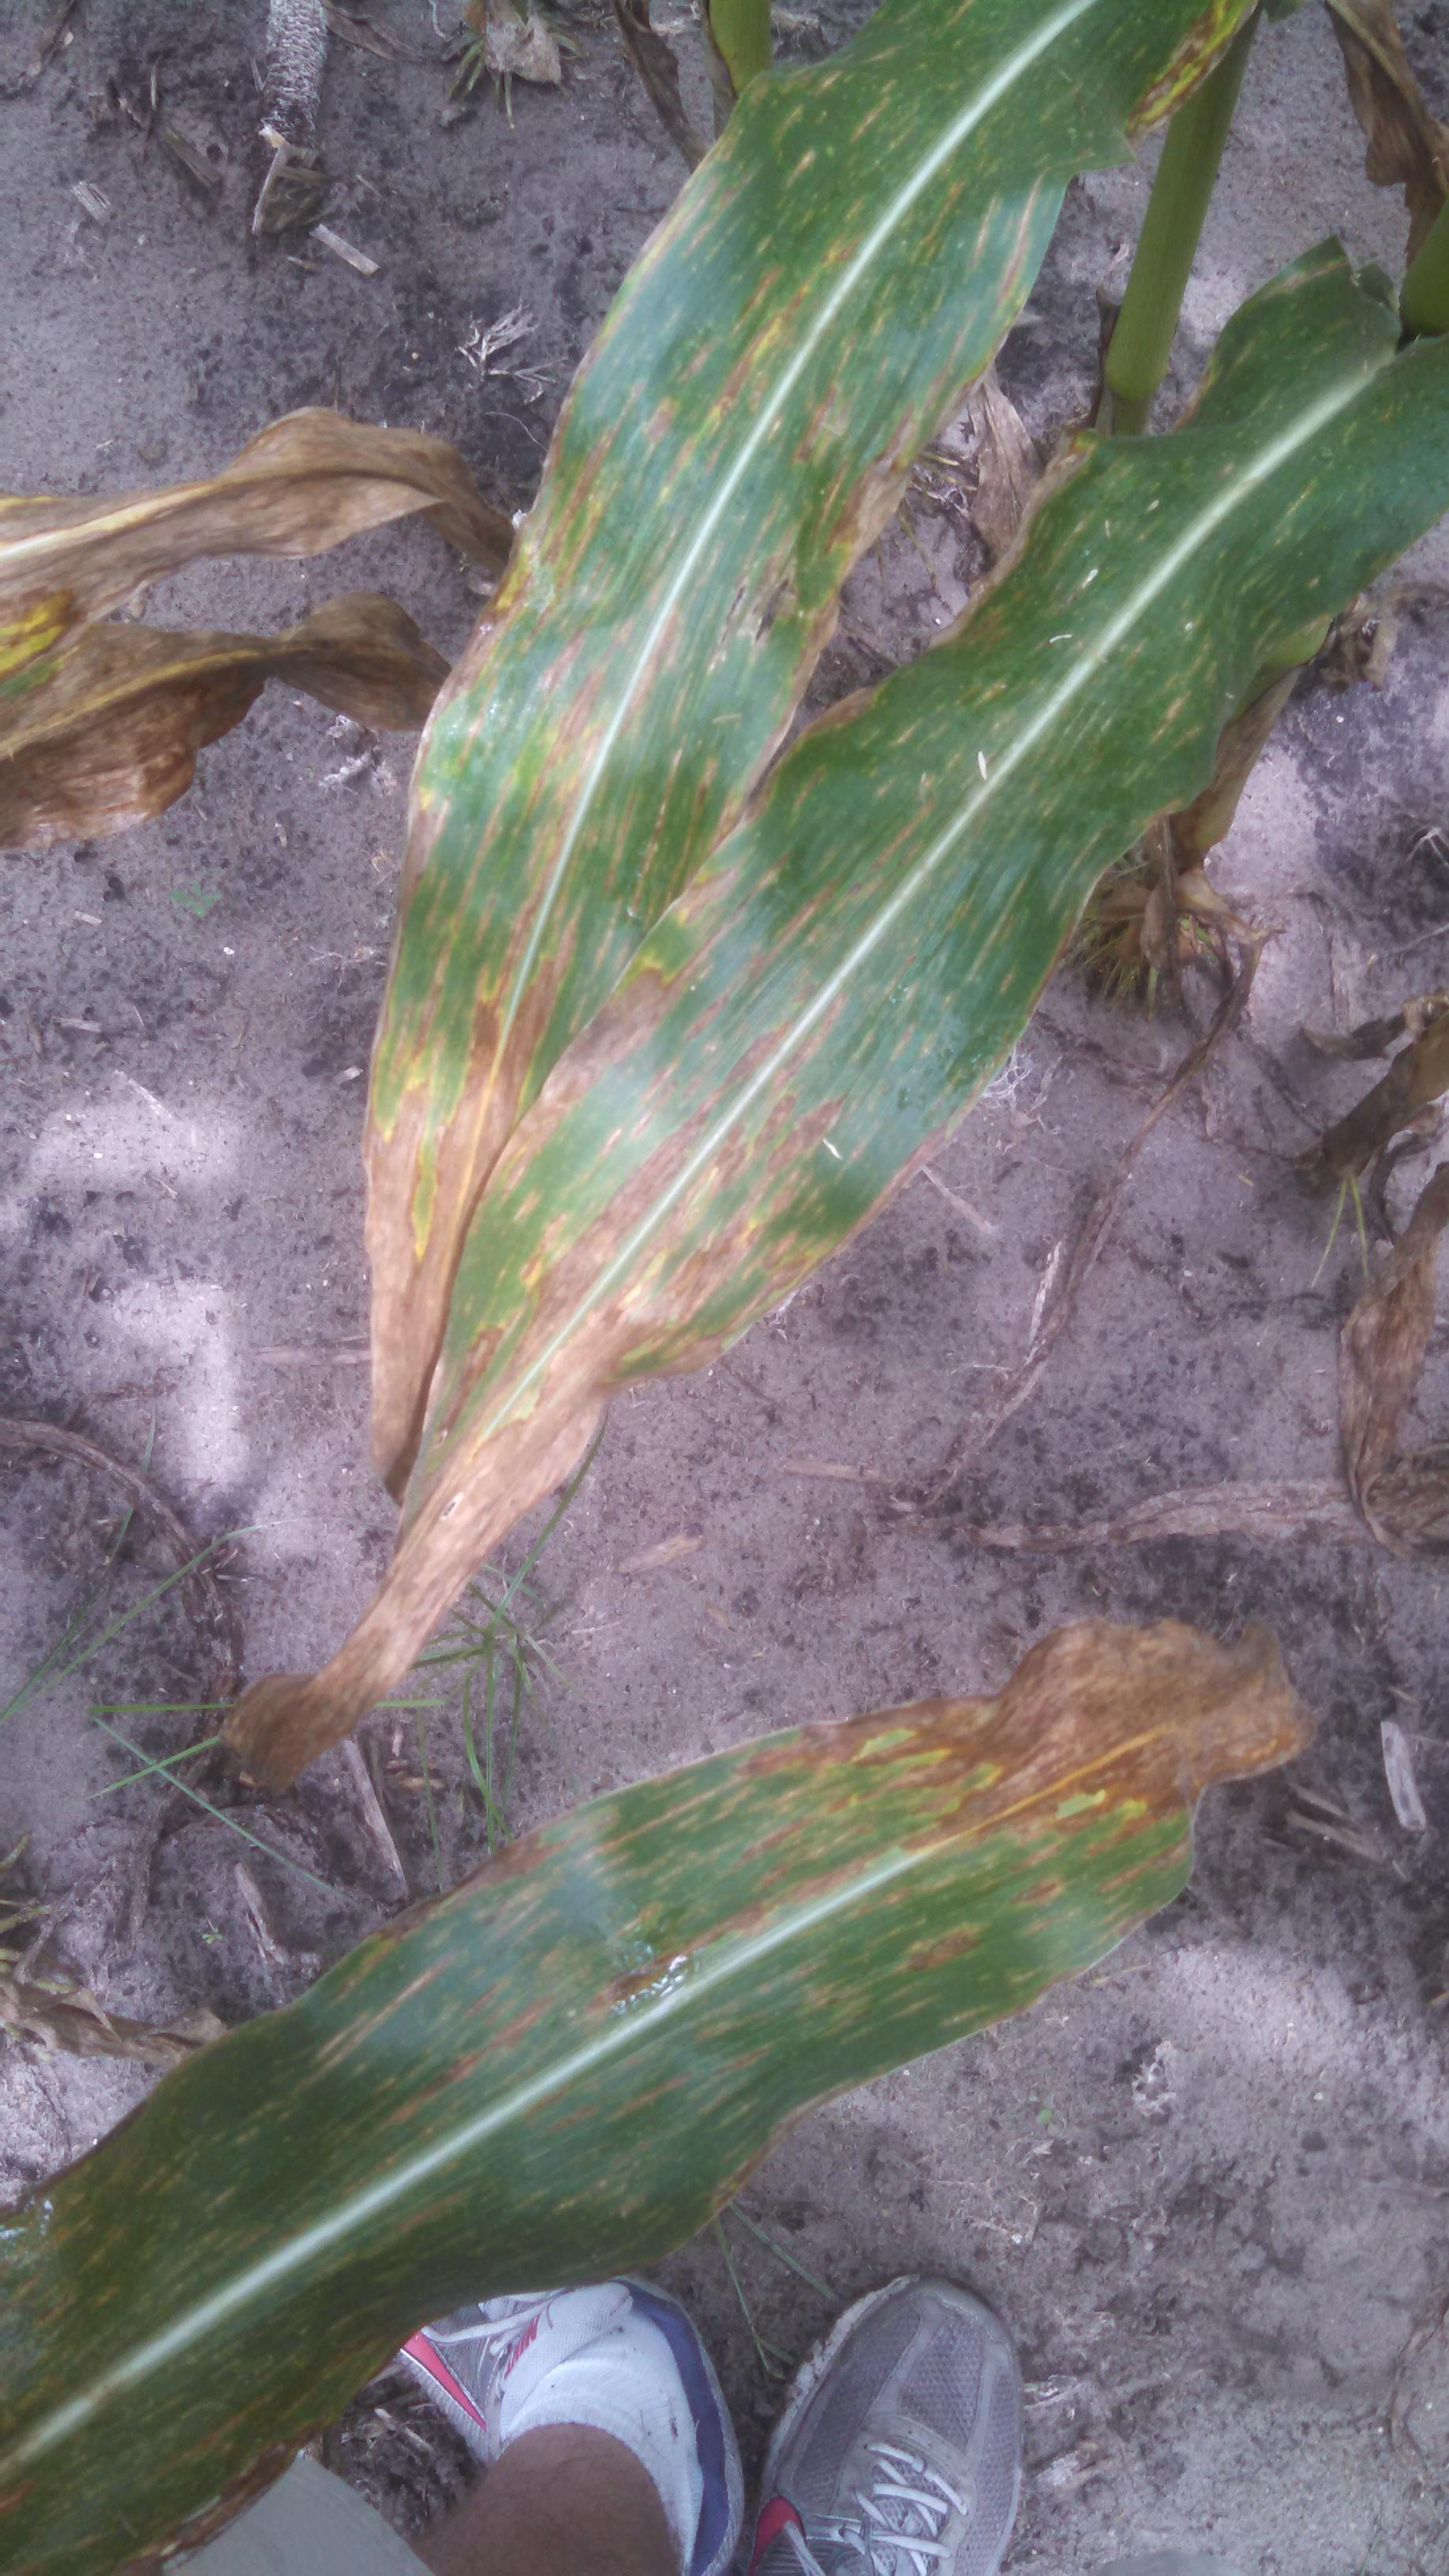Corn leaf blight: (249, 225, 1424, 1821), (295, 5, 1205, 1444), (7, 1635, 1399, 2535)
